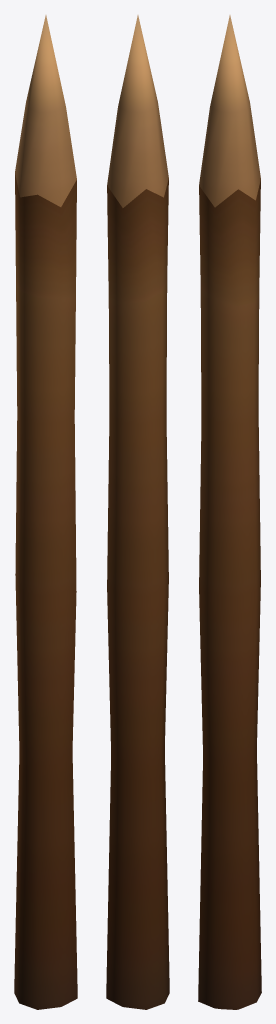
File: Spear_01.glb
3 renders of one model, left to right at view 1: azimuth 30°, elevation 25°; view 2: azimuth 150°, elevation 25°; view 3: azimuth 330°, elevation 25°, orthographic.
Visible parts, largest first — view 1: Spear_01; view 2: Spear_01; view 3: Spear_01.
Boxes of the visible parts, x1,y1,x2,y2 form: Spear_01: (14,15,77,1009); Spear_01: (106,15,169,1009); Spear_01: (198,15,261,1009).
Size of the model in its own units: 0.0866 by 1.53 by 0.0866.
Materials: 1 (1 with a texture image).
